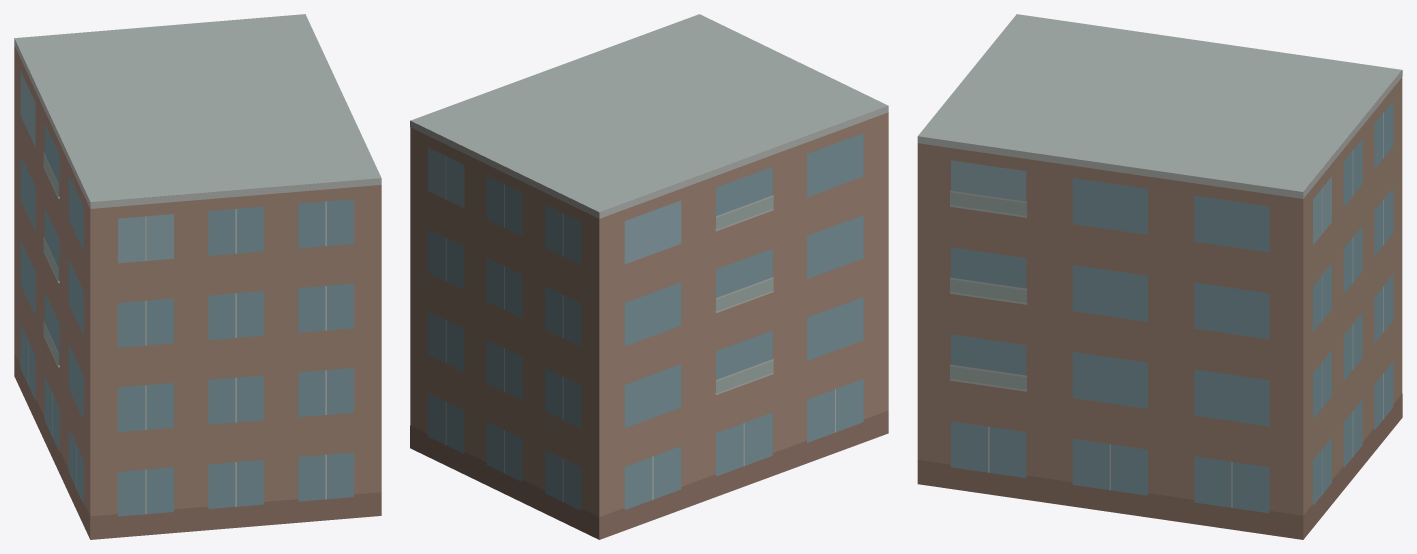
File: residential-85d47811-65c4-454d-a2ec-1707d38bf168.glb
3 views of the same model, side by side, from view 1: azimuth 30°, elevation 25°; view 2: azimuth 150°, elevation 25°; view 3: azimuth 270°, elevation 25° (orthographic). The views are drawn at different scales.
Visible parts, largest first — view 1: residential-85d47811-65c4-454d-a2ec-1707d38bf168.tmp; view 2: residential-85d47811-65c4-454d-a2ec-1707d38bf168.tmp; view 3: residential-85d47811-65c4-454d-a2ec-1707d38bf168.tmp.
Boxes of the visible parts, x1,y1,x2,y2 form: residential-85d47811-65c4-454d-a2ec-1707d38bf168.tmp: (14, 14, 381, 539); residential-85d47811-65c4-454d-a2ec-1707d38bf168.tmp: (410, 14, 888, 539); residential-85d47811-65c4-454d-a2ec-1707d38bf168.tmp: (917, 14, 1402, 539).
Size of the model in its own units: 13.4 by 12.2 by 15.42.
